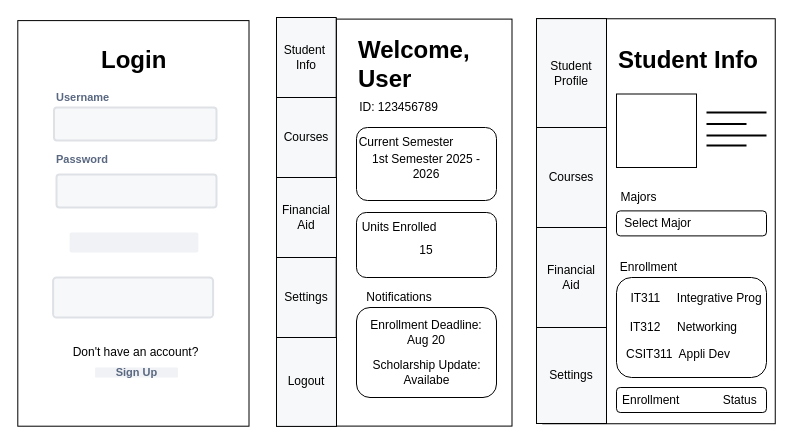
The diagram is 794 pixels wide and 444 high, and some of its shapes have lost their labels. The centre of each missing label's shape, as x and y in pixels:
"Forgot Password?" goes at point (133, 242).
"Sign In" goes at point (133, 297).
